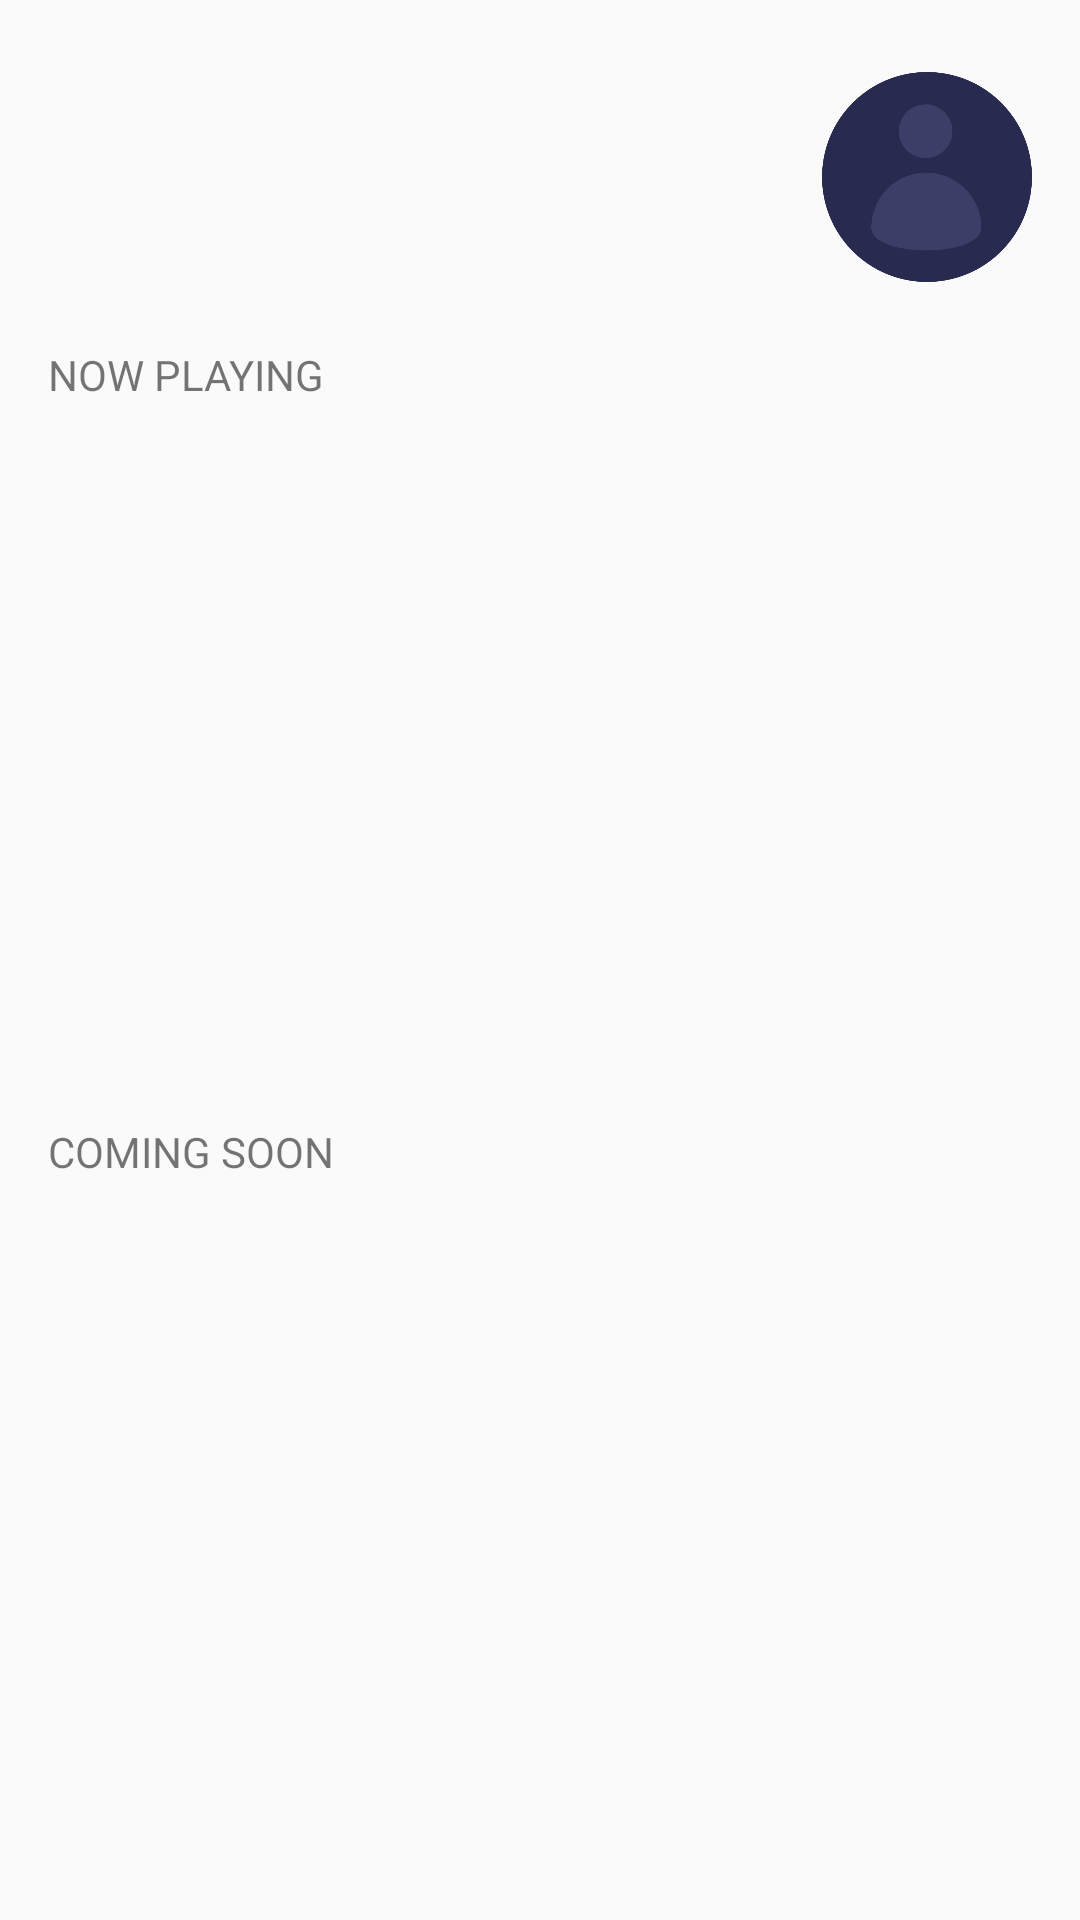

Where to tap for icons on this 1080*1920 app screen, as (x=x, y=y):
user pic: (x=927, y=177)
